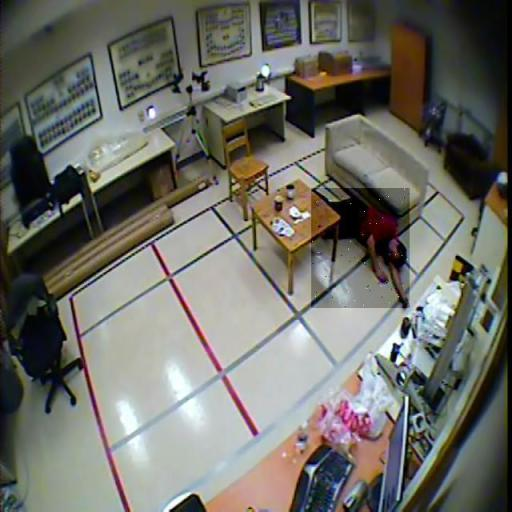Fall: (311, 188, 410, 308)
